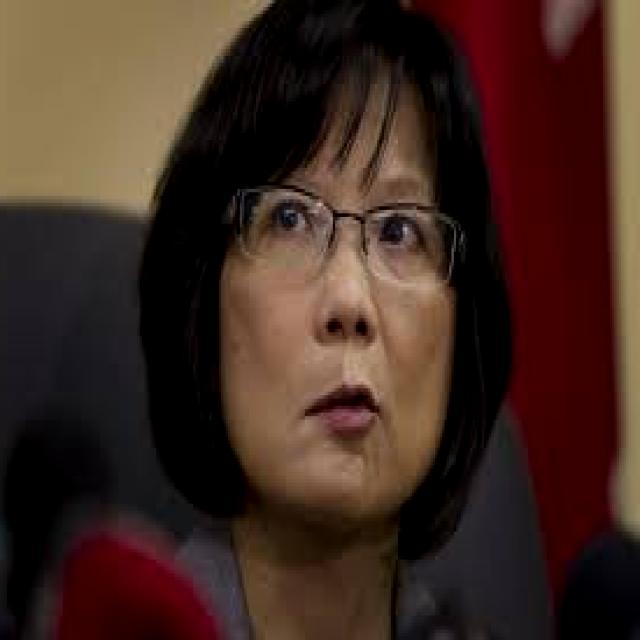stroke_face: (217, 37, 483, 521)
